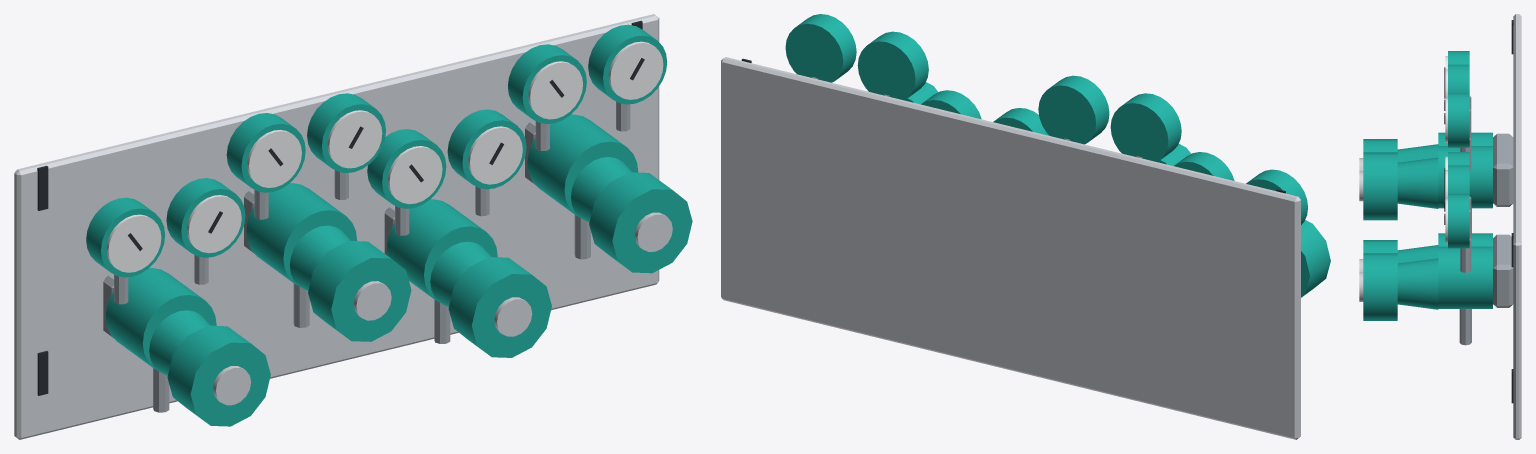
Rendered from regulator-panel-4.glb.
3 renders of one model, left to right at view 1: azimuth 30°, elevation 25°; view 2: azimuth 150°, elevation 25°; view 3: azimuth 270°, elevation 25°, orthographic. The views are drawn at different scales.
Visible parts, largest first — view 1: regulator-panel-4; view 2: regulator-panel-4; view 3: regulator-panel-4.
Part boxes in pixels (x1,y1,x2,y2): regulator-panel-4: (14, 14, 692, 439); regulator-panel-4: (721, 14, 1330, 439); regulator-panel-4: (1359, 14, 1521, 439).
Bounding box in the file's own units: 0.8 × 0.355 × 0.238.
